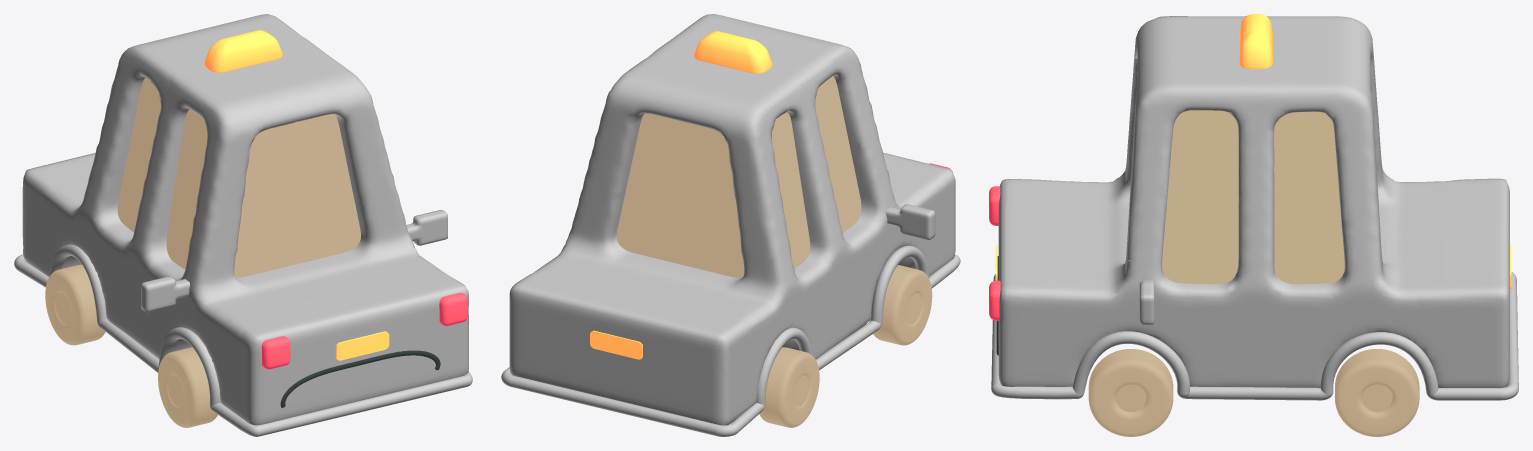
File: MadTaxi.fbx
3 renders of one model, left to right at view 1: azimuth 30°, elevation 25°; view 2: azimuth 150°, elevation 25°; view 3: azimuth 270°, elevation 25°, orthographic. The views are drawn at different scales.
Parts seen in each view (by area): view 1: Polygon_remesh_2, Cube_2, Sweep_1, Wheels_1, TaxiHat, Polygon_remesh, Polygon_remesh_1, Extrude, Smile, Cube_1, Cube; view 2: Polygon_remesh_2, Cube_2, Sweep_1, Wheels_1, TaxiHat, Polygon_remesh, Extrude_1; view 3: Polygon_remesh_2, Cube_2, Wheels_1, Sweep_1, TaxiHat, Polygon_remesh_1.
Boxes of the visible parts, left/top/right/bottom form: Polygon_remesh_2: left=22, top=14, right=468, bottom=425; Cube_2: left=117, top=78, right=360, bottom=277; Sweep_1: left=14, top=244, right=472, bottom=436; Wheels_1: left=45, top=264, right=217, bottom=427; TaxiHat: left=204, top=30, right=282, bottom=72; Polygon_remesh: left=141, top=276, right=189, bottom=312; Polygon_remesh_1: left=406, top=210, right=447, bottom=245; Extrude: left=335, top=331, right=389, bottom=360; Smile: left=280, top=350, right=440, bottom=407; Cube_1: left=439, top=292, right=467, bottom=326; Cube: left=261, top=336, right=290, bottom=369; Polygon_remesh_2: left=509, top=14, right=955, bottom=425; Cube_2: left=616, top=76, right=861, bottom=277; Sweep_1: left=501, top=245, right=960, bottom=436; Wheels_1: left=759, top=265, right=932, bottom=427; TaxiHat: left=694, top=31, right=772, bottom=73; Polygon_remesh: left=885, top=204, right=935, bottom=239; Extrude_1: left=590, top=330, right=642, bottom=359; Polygon_remesh_2: left=998, top=16, right=1509, bottom=387; Cube_2: left=1162, top=110, right=1344, bottom=284; Wheels_1: left=1088, top=349, right=1419, bottom=436; Sweep_1: left=991, top=271, right=1518, bottom=400; TaxiHat: left=1239, top=14, right=1273, bottom=69; Polygon_remesh_1: left=1139, top=280, right=1154, bottom=324.
Size of the model in its own units: 2301 by 2312 by 3193.
